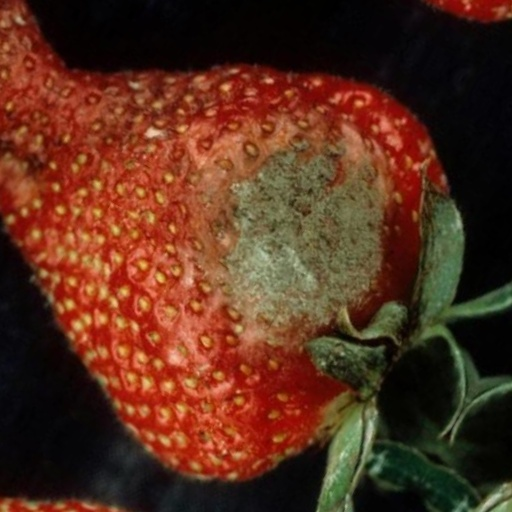Gray Mold: (129, 92, 393, 361)
